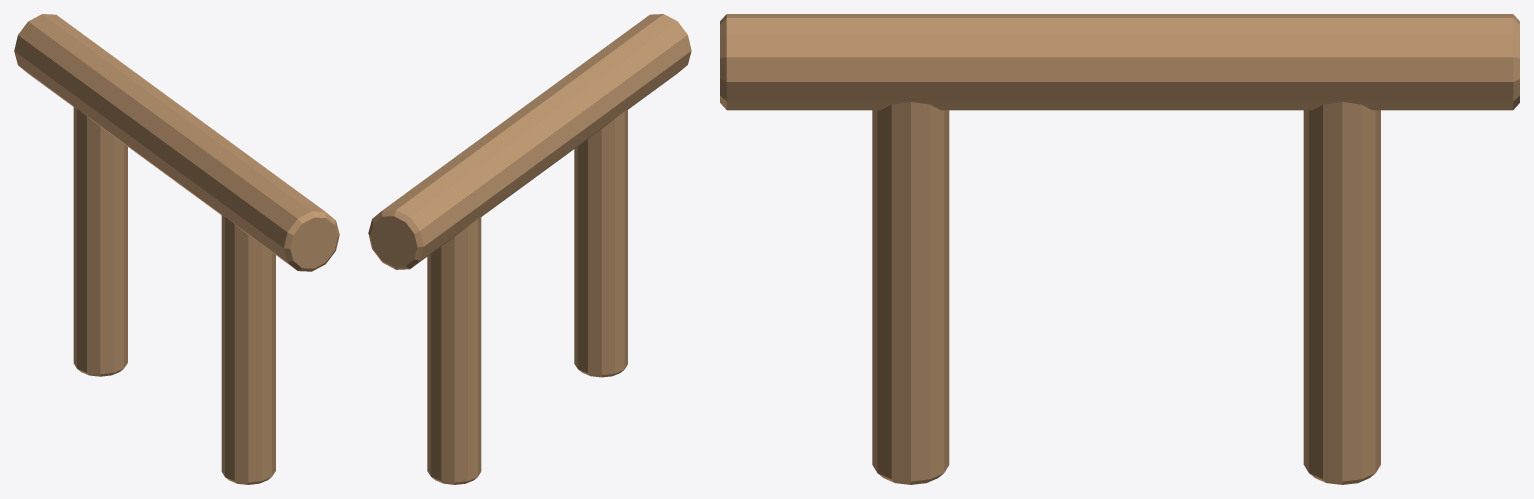
The model's file is Hitching Post-col.glb.
3 renders of one model, left to right at view 1: azimuth 30°, elevation 25°; view 2: azimuth 150°, elevation 25°; view 3: azimuth 270°, elevation 25°, orthographic. The views are drawn at different scales.
Visible parts, largest first — view 1: Hitching Post-col; view 2: Hitching Post-col; view 3: Hitching Post-col.
Part boxes in pixels (x1,y1,x2,y2): Hitching Post-col: (14, 14, 339, 484); Hitching Post-col: (368, 14, 691, 484); Hitching Post-col: (720, 14, 1519, 484).
Bounding box in the file's own units: 0.1888 × 1 × 1.6.
